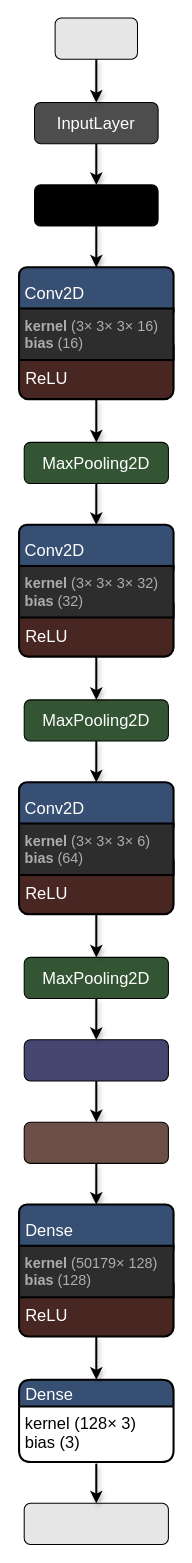
This 192x1563 diagram has some shape labels left out. The shapes that lost their labels are listed below. From the top down, each one's centre as x and y in pixels, then its label:
At [96,38]: "input".
At [95,205]: "Rescaling".
At [95,1060]: "Dropout".
At [95,1142]: "Flatten".
At [95,1523]: "dense_1".
